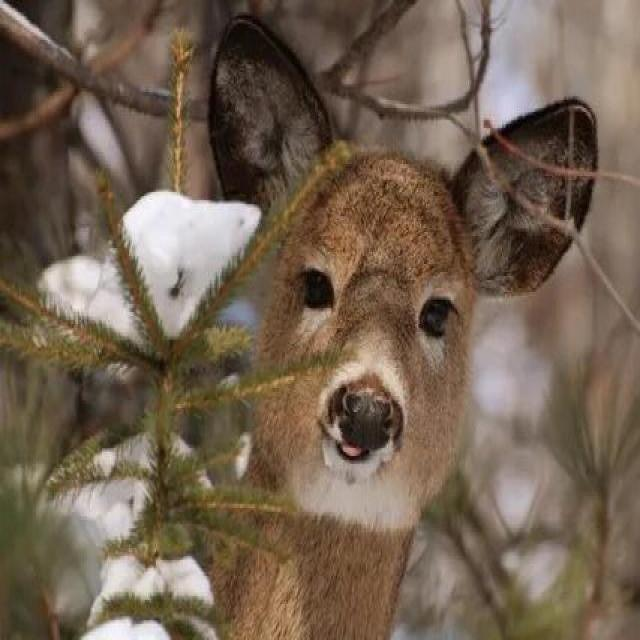deer: (162, 69, 580, 640)
